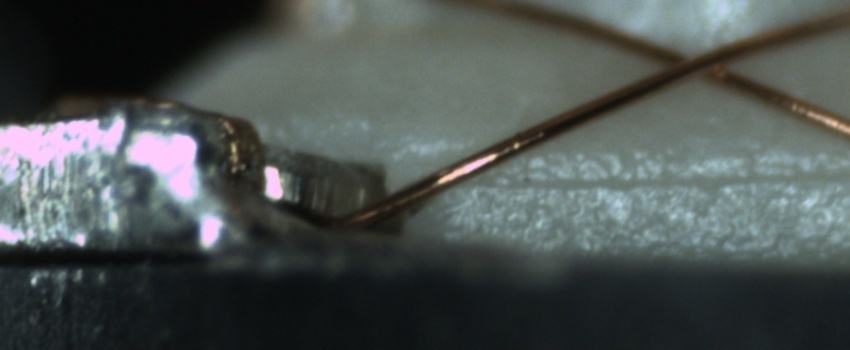CL: (639, 36, 755, 87)
DL: (453, 152, 849, 211)
TE: (124, 88, 264, 183)
